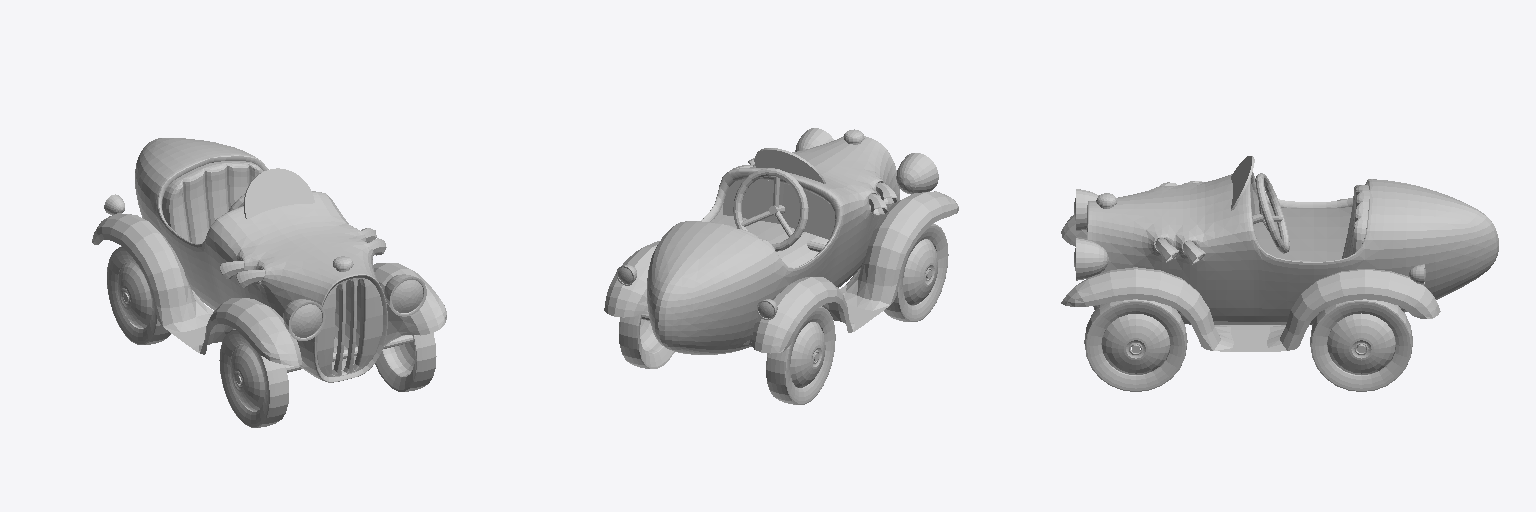
The model's file is Carro_de_Brinquedo_3.obj.
3 renders of one model, left to right at view 1: azimuth 30°, elevation 25°; view 2: azimuth 150°, elevation 25°; view 3: azimuth 270°, elevation 25°, orthographic.
Parts seen in each view (by area): view 1: group83; view 2: group83; view 3: group83.
Part boxes in pixels (x1,y1,x2,y2): group83: (92,138,446,427); group83: (604,128,958,404); group83: (1061,156,1498,391).
Size of the model in its own units: 0.197 by 0.1963 by 0.4039.